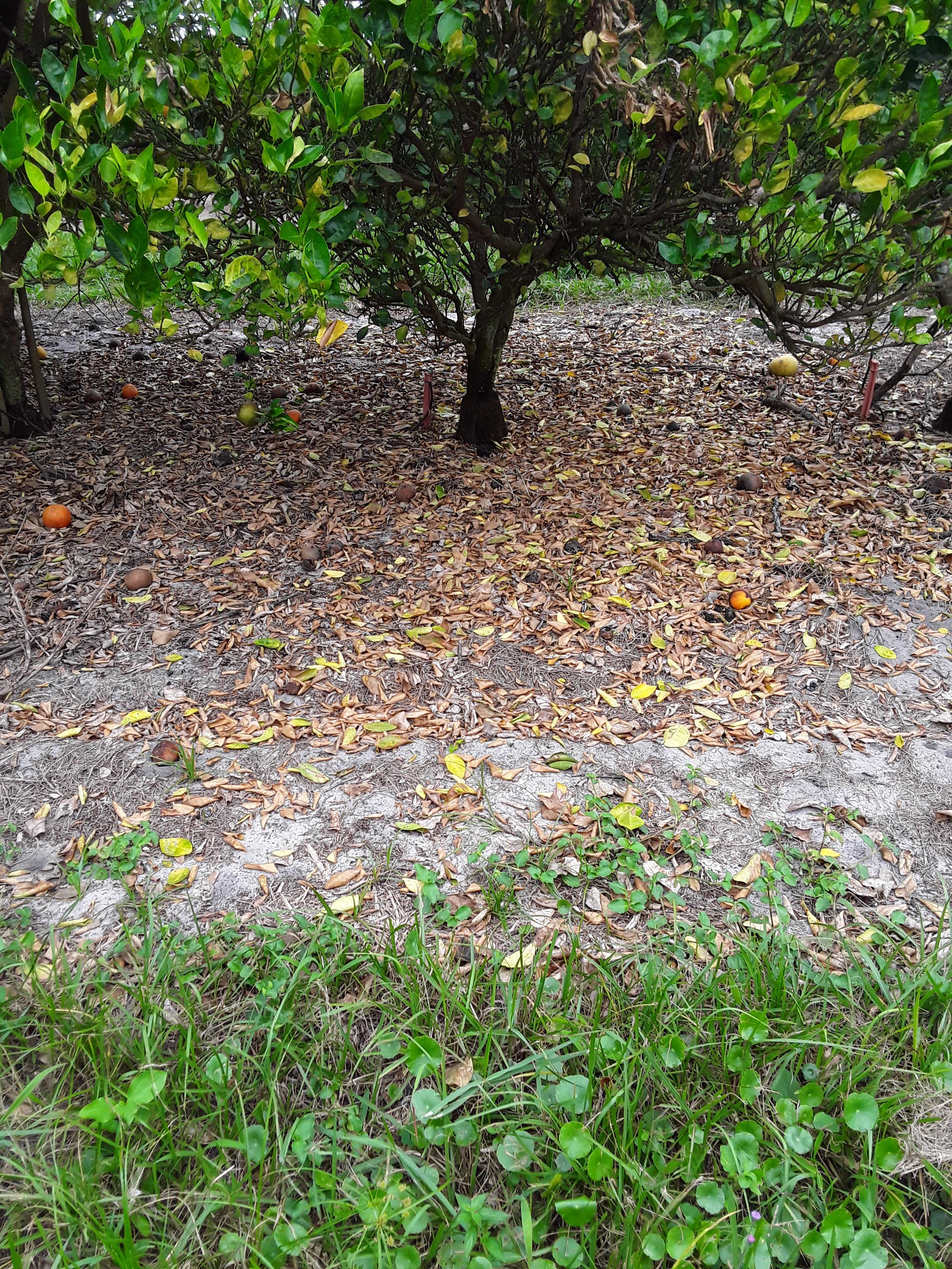fruit_on_ground: (233, 397, 265, 431), (767, 353, 801, 381)
fruit_on_tree: (35, 502, 73, 532), (120, 564, 157, 594), (734, 470, 767, 496), (397, 478, 420, 504), (726, 590, 753, 612), (281, 406, 306, 425), (302, 378, 325, 398), (118, 379, 140, 399), (269, 381, 289, 399), (33, 340, 48, 360)
